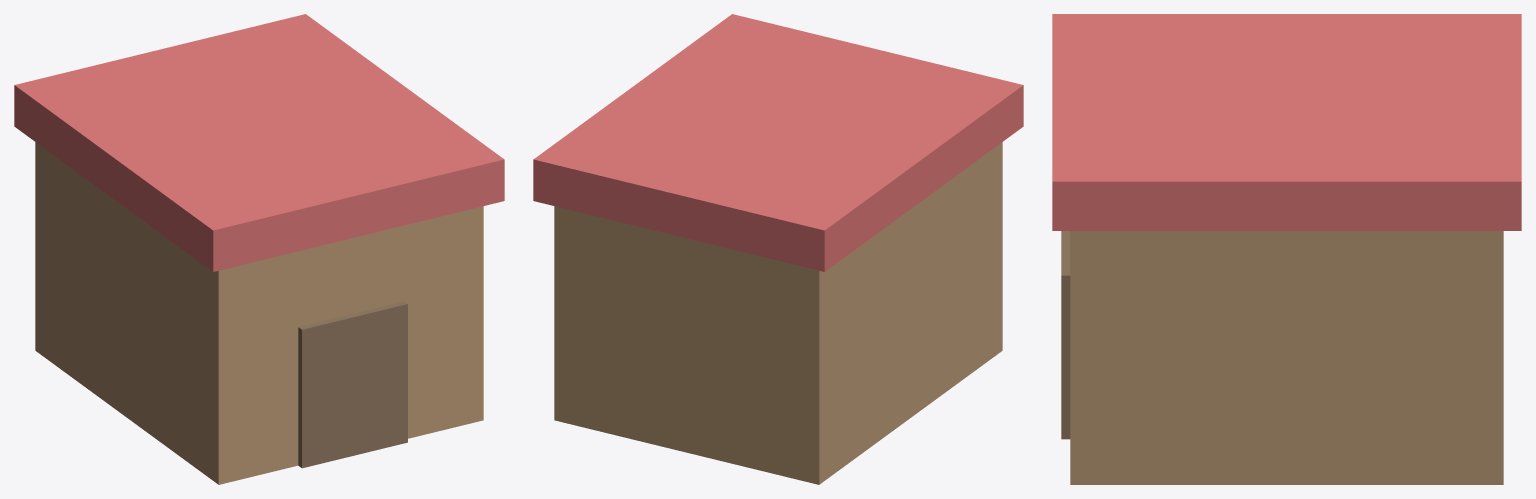
File: Prop_Pet_AMF_Kennel_V11.glb
3 views of the same model, side by side, from view 1: azimuth 30°, elevation 25°; view 2: azimuth 150°, elevation 25°; view 3: azimuth 270°, elevation 25° (orthographic). The views are drawn at different scales.
Visible parts, largest first — view 1: Prop_Pet_AMF_Kennel_V11; view 2: Prop_Pet_AMF_Kennel_V11; view 3: Prop_Pet_AMF_Kennel_V11.
Part boxes in pixels (x1,y1,x2,y2): Prop_Pet_AMF_Kennel_V11: (14,14,504,484); Prop_Pet_AMF_Kennel_V11: (533,14,1023,484); Prop_Pet_AMF_Kennel_V11: (1052,14,1521,484).
Bounding box in the file's own units: 1.1 × 0.95 × 1.3.
